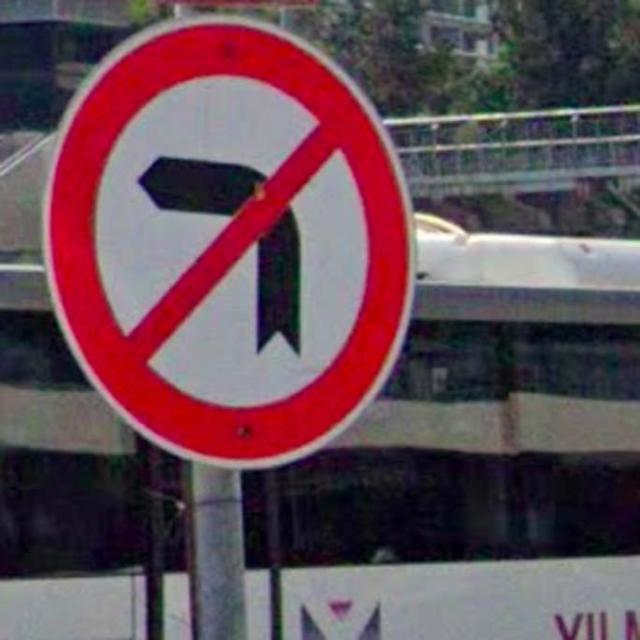soladonulmez: (41, 19, 420, 472)
